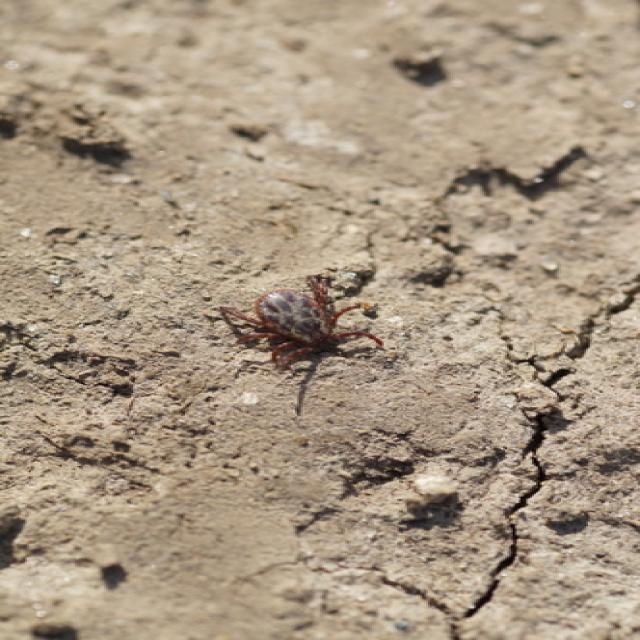Dermacentor Reticulatus-M: (229, 275, 380, 369)
